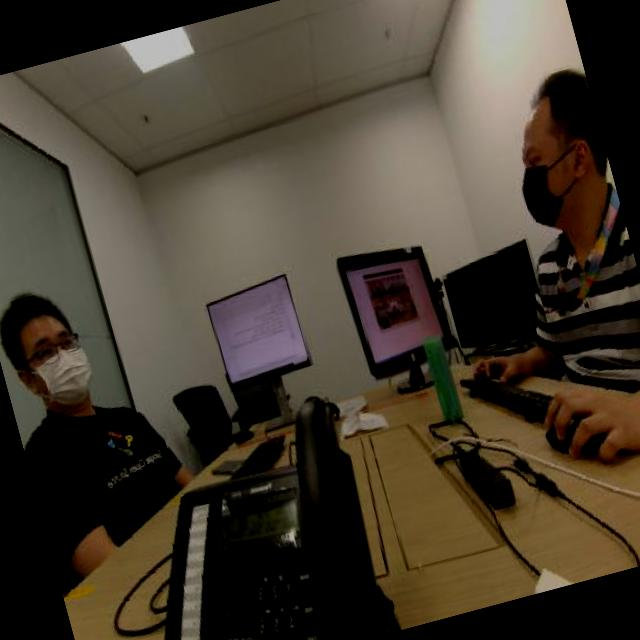Person: (456, 48, 640, 379), (0, 230, 197, 535)
